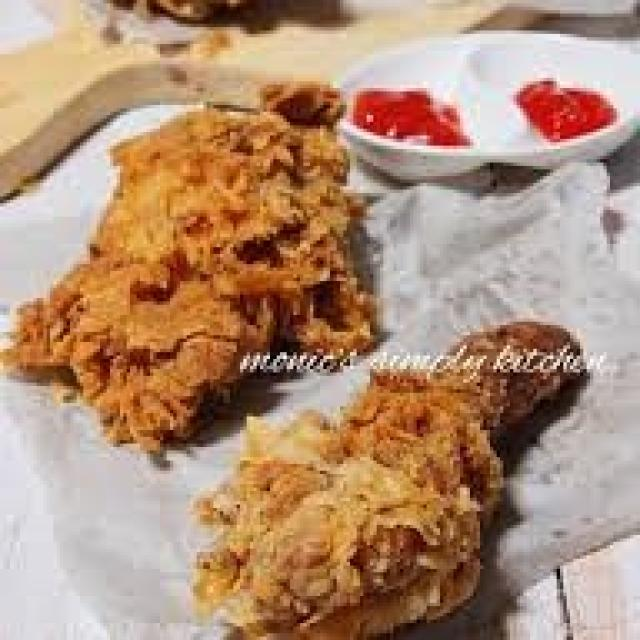Frango: (0, 74, 367, 450), (199, 321, 593, 640)
